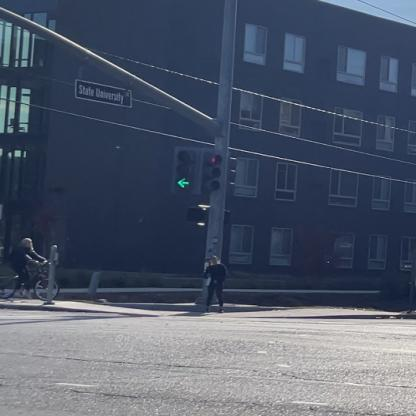left-green: (171, 144, 202, 197)
